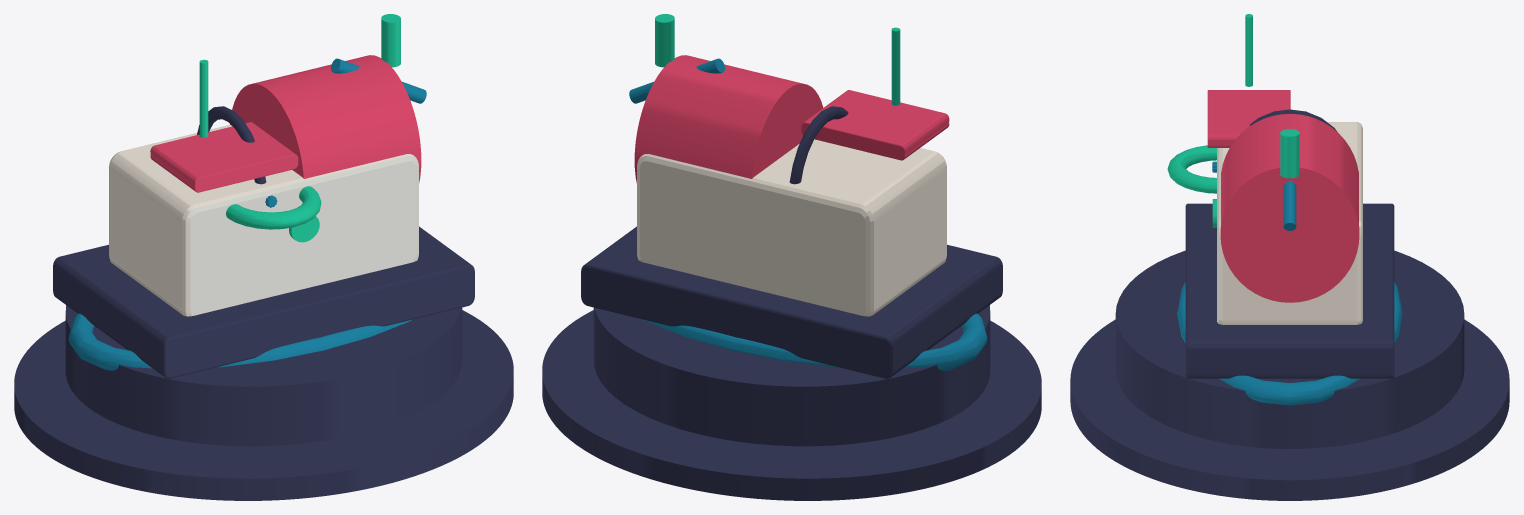
File: 0464_机械图鉴_莱布尼兹计算器.glb
3 renders of one model, left to right at view 1: azimuth 30°, elevation 25°; view 2: azimuth 150°, elevation 25°; view 3: azimuth 270°, elevation 25°, orthographic. The views are drawn at different scales.
Visible parts, largest first — view 1: card_0464; view 2: card_0464; view 3: card_0464.
Part boxes in pixels (box(x1,y1,x2,y2)): card_0464: box(14, 14, 513, 500); card_0464: box(542, 14, 1041, 500); card_0464: box(1070, 14, 1509, 500).
Size of the model in its own units: 1.23 by 1 by 1.14.
